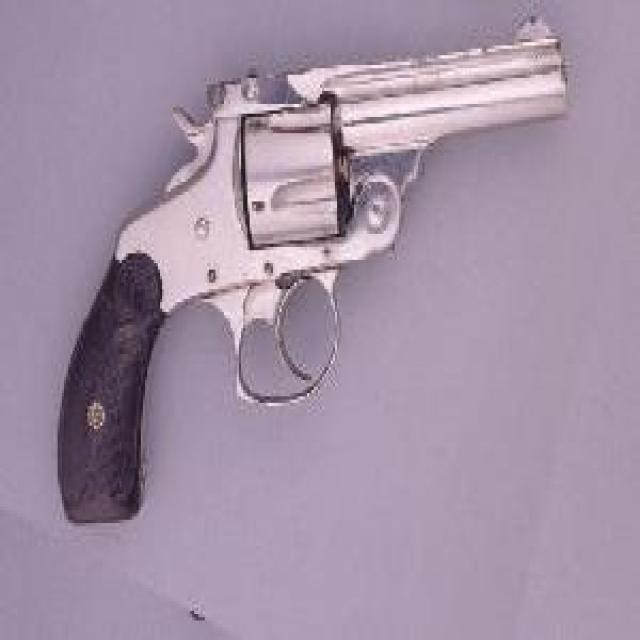gun: (51, 13, 568, 523)
